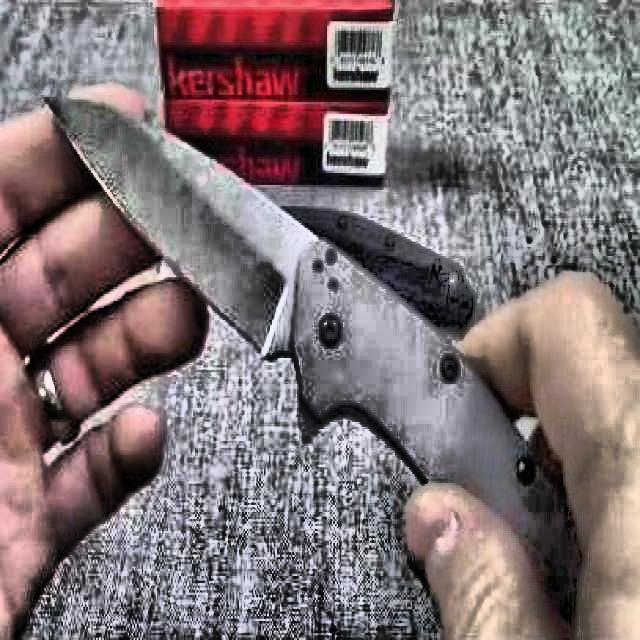knife: (43, 96, 584, 639)
